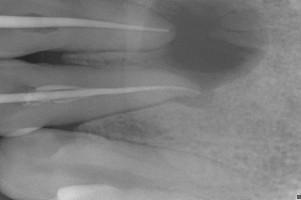Furcation Involvement: (152, 0, 270, 91)
